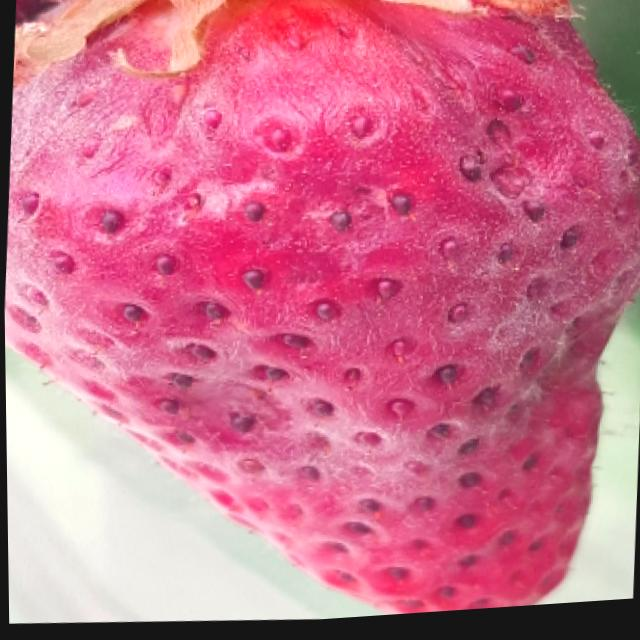Powdery Mildew Fruit: (4, 0, 640, 620)
